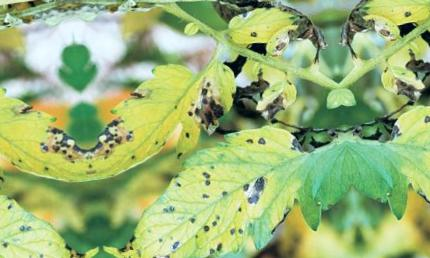Tomato leaf bacterial spot: (102, 126, 317, 258), (77, 49, 244, 176)
